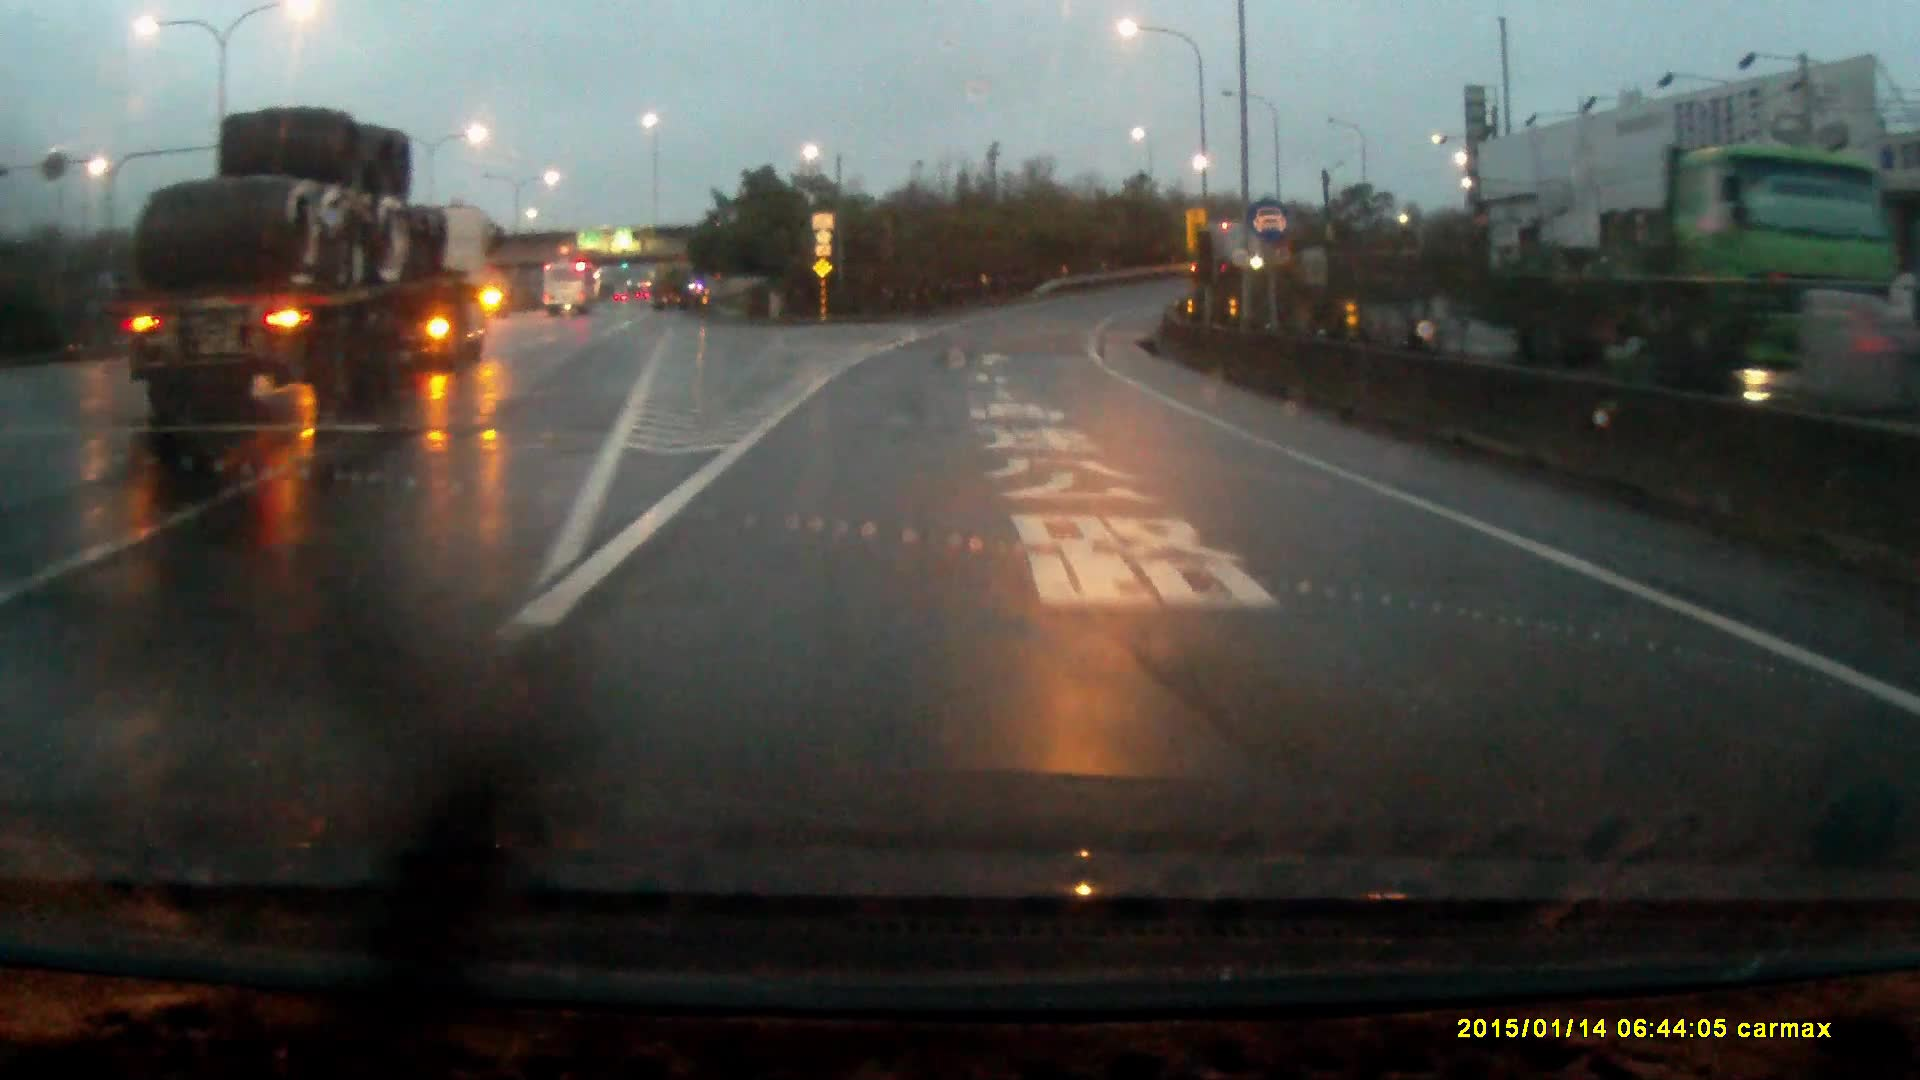vehicle: (105, 111, 502, 409), (543, 262, 596, 322)
